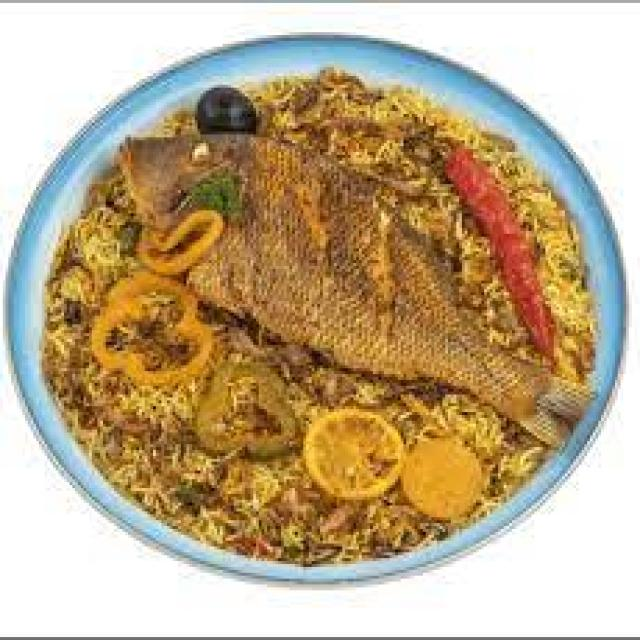Peixe: (114, 123, 571, 447)
